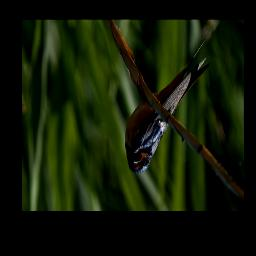Swallow: (124, 31, 212, 174)
